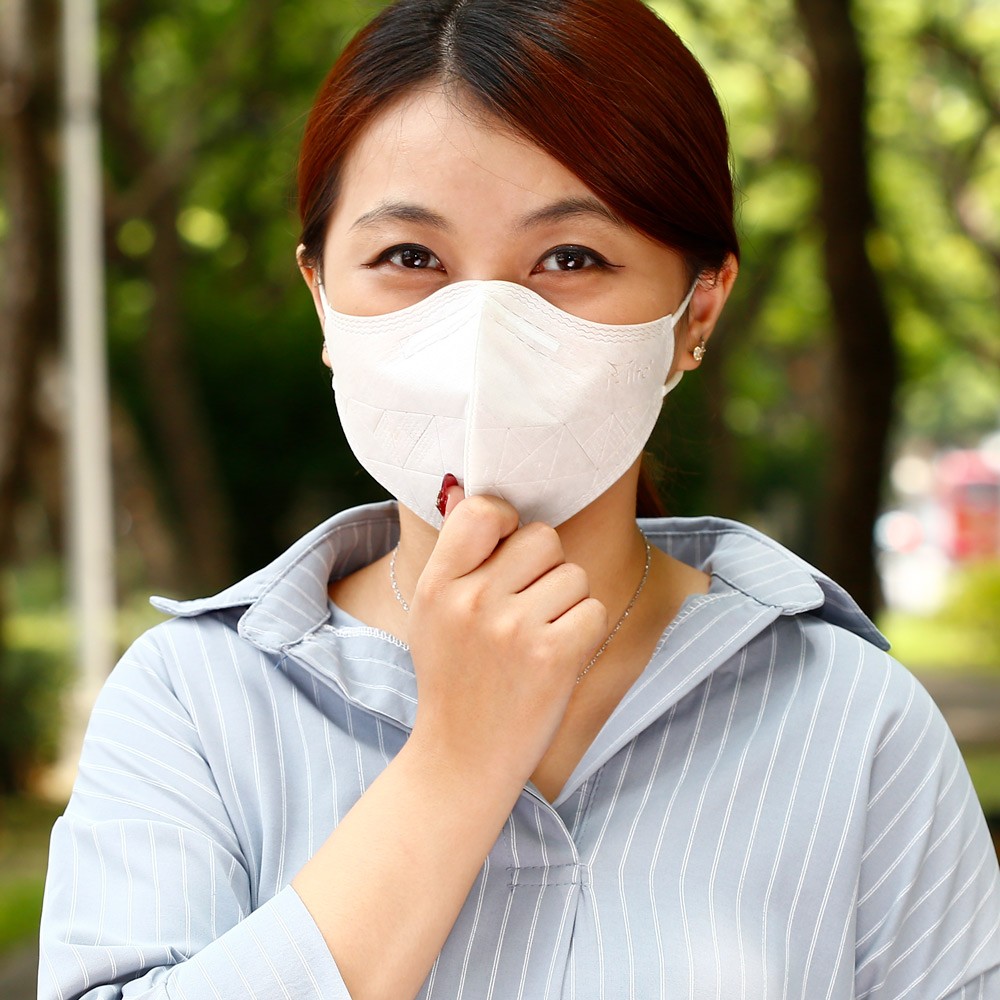mask: (320, 288, 681, 544)
